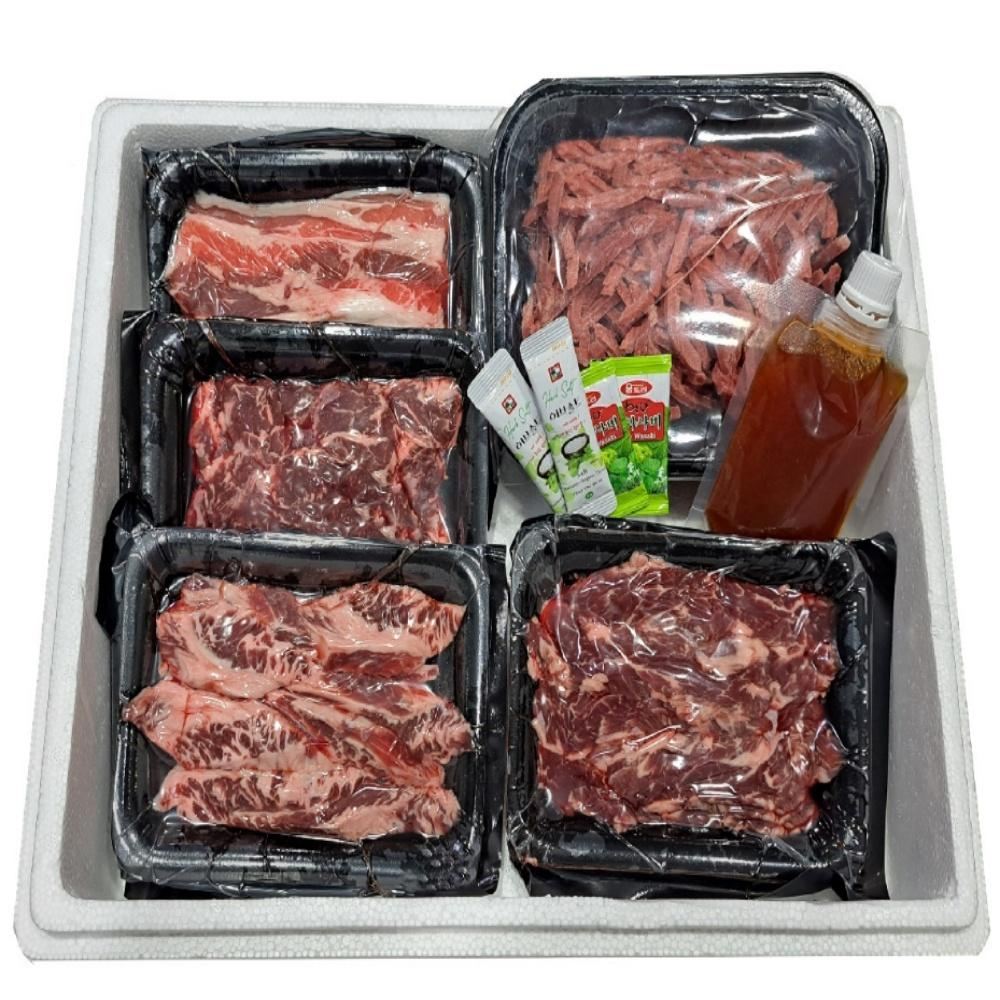beef: (244, 788, 722, 1000), (316, 591, 711, 838), (278, 280, 698, 506), (794, 781, 1000, 1000)
